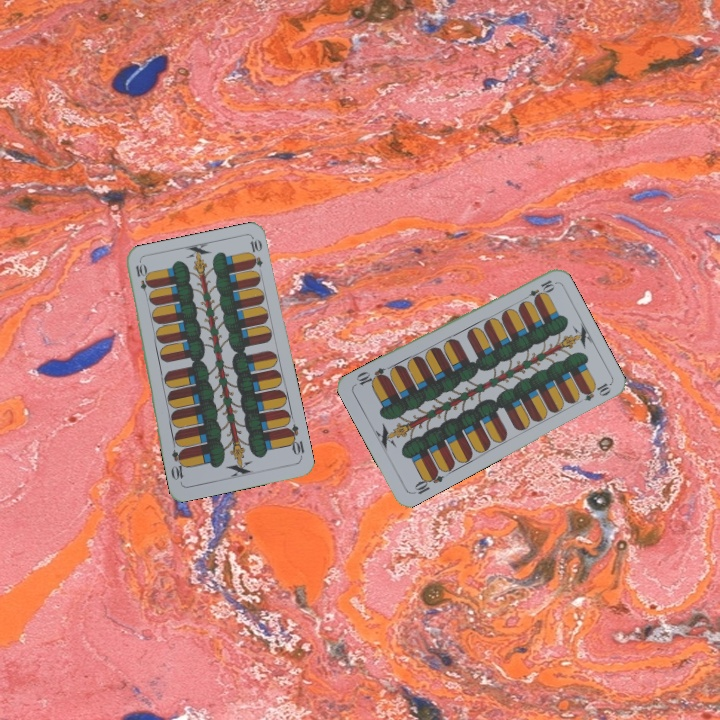E10: (409, 466, 446, 497), (519, 276, 557, 304), (282, 420, 307, 461), (131, 260, 152, 300)
